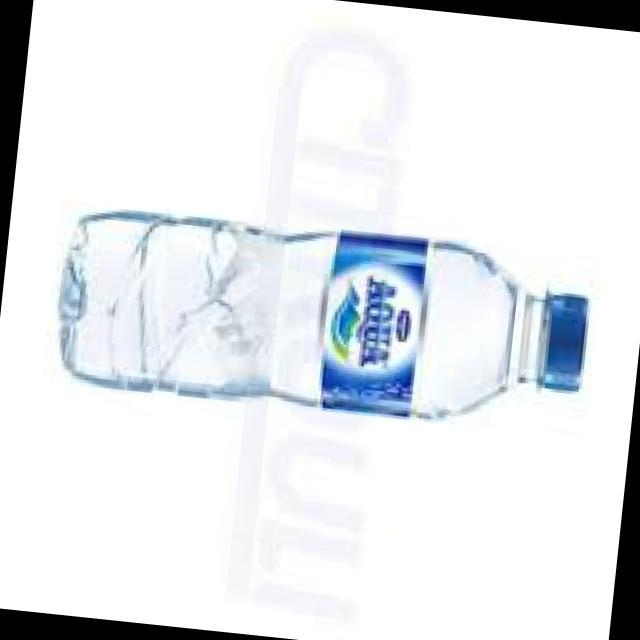good: (36, 186, 614, 481)
